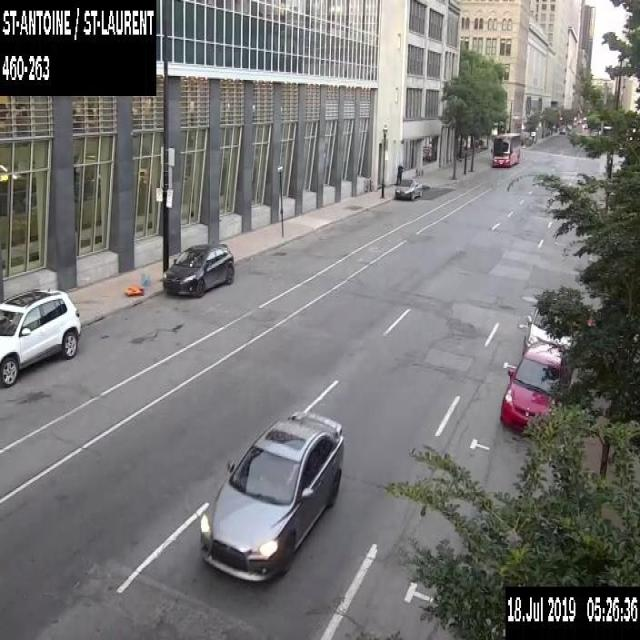bus: (491, 132, 521, 166)
construction: (122, 271, 150, 295)
pedestrian: (396, 162, 402, 183)
vehicle: (200, 410, 344, 586), (0, 287, 81, 388), (499, 340, 570, 434), (161, 239, 234, 297), (522, 302, 573, 361), (394, 177, 421, 200)
